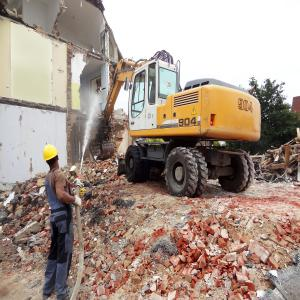yellow: (43, 142, 60, 168)
